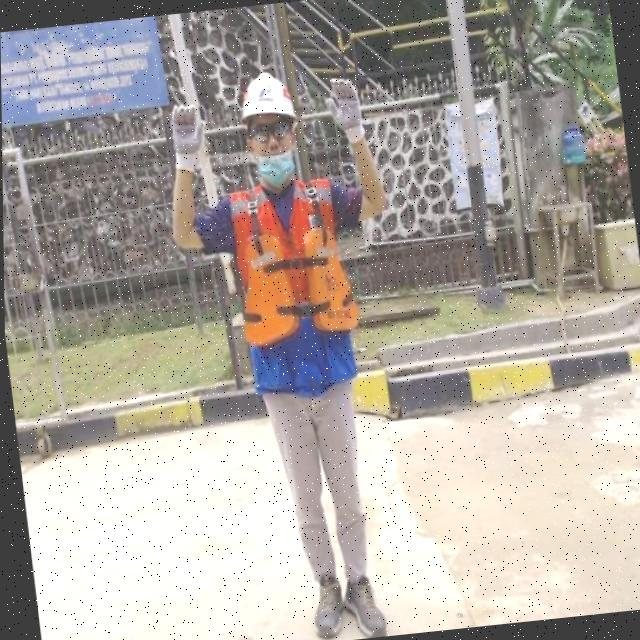goggles_on: (243, 116, 298, 144)
